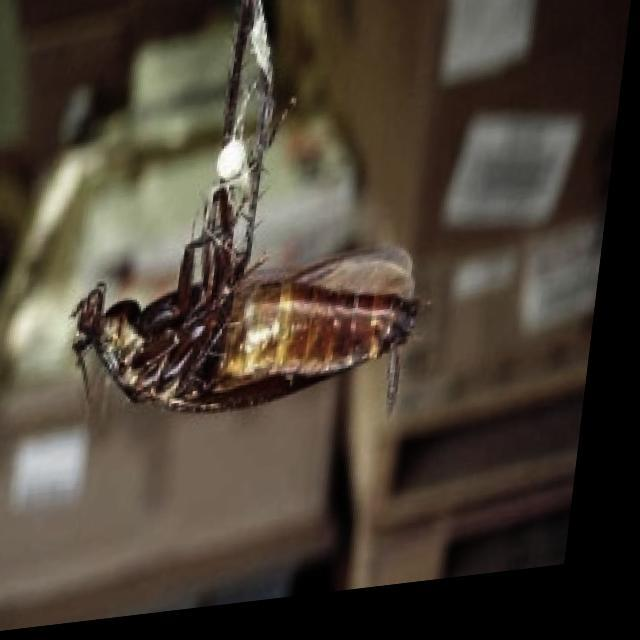cockroach: (43, 74, 465, 455)
